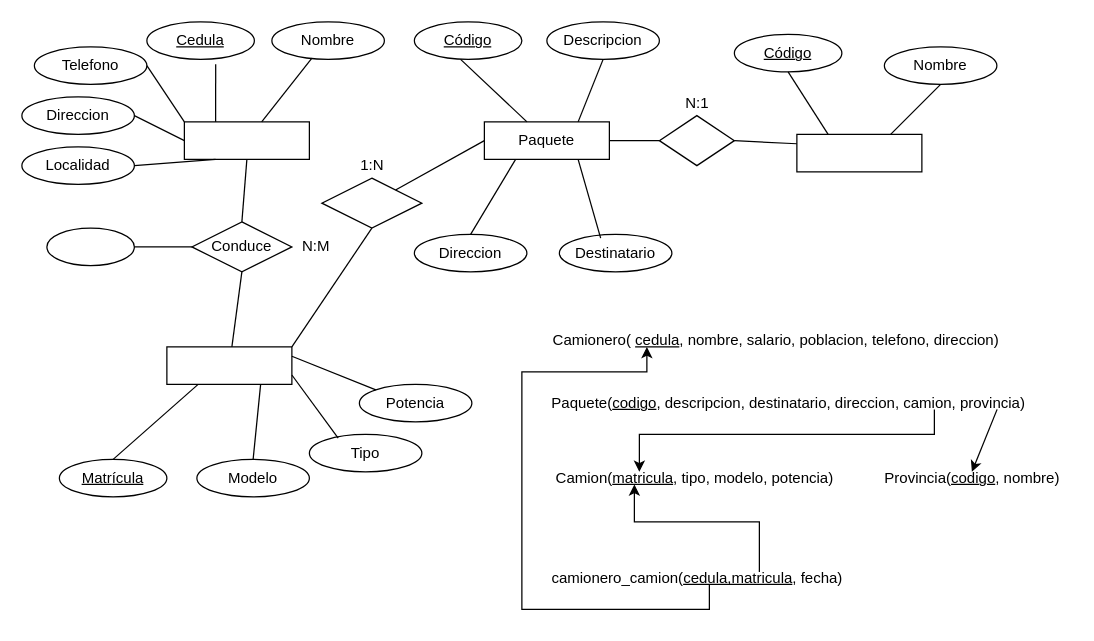
This 1094x641 diagram has some shape labels left out. Each missing label, with the centre of its shape:
"Camionero" belongs at point (246, 140).
"Camión" belongs at point (229, 365).
"Distribuye" belongs at point (371, 202).
"Fecha" belongs at point (90, 246).
"Llega" belongs at point (696, 140).
"Provincia" belongs at point (859, 152).
